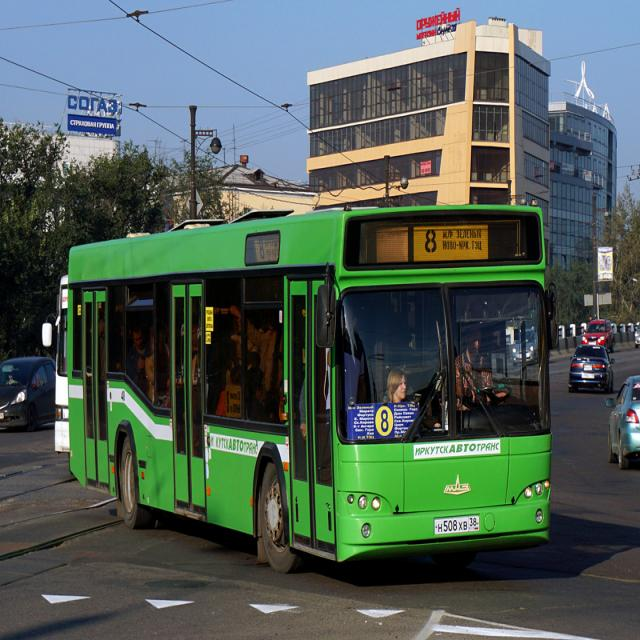number-of-bus: (425, 228, 439, 255), (381, 409, 390, 434)
